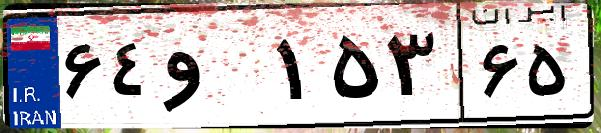1: (270, 28, 330, 110)
3: (385, 28, 445, 110)
4: (110, 28, 158, 98)
5: (330, 28, 385, 110), (525, 38, 570, 115)
6: (57, 26, 110, 100), (475, 38, 525, 113)
و: (158, 20, 270, 120)
